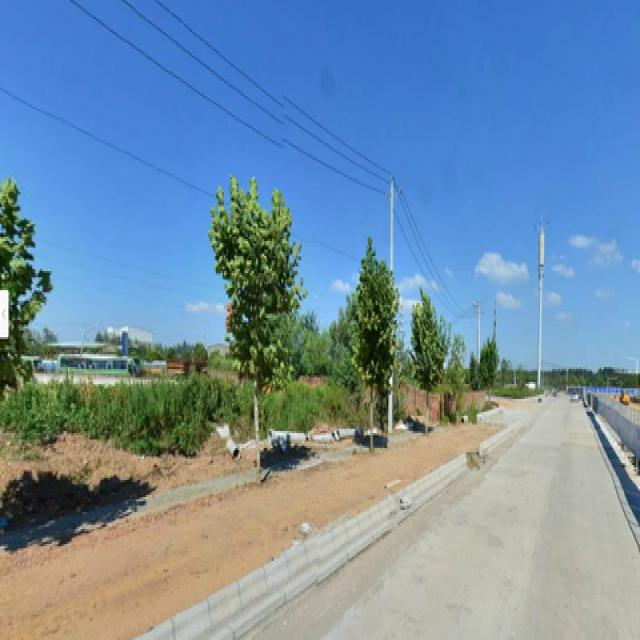meta: (229, 186, 288, 469), (347, 256, 384, 448)
